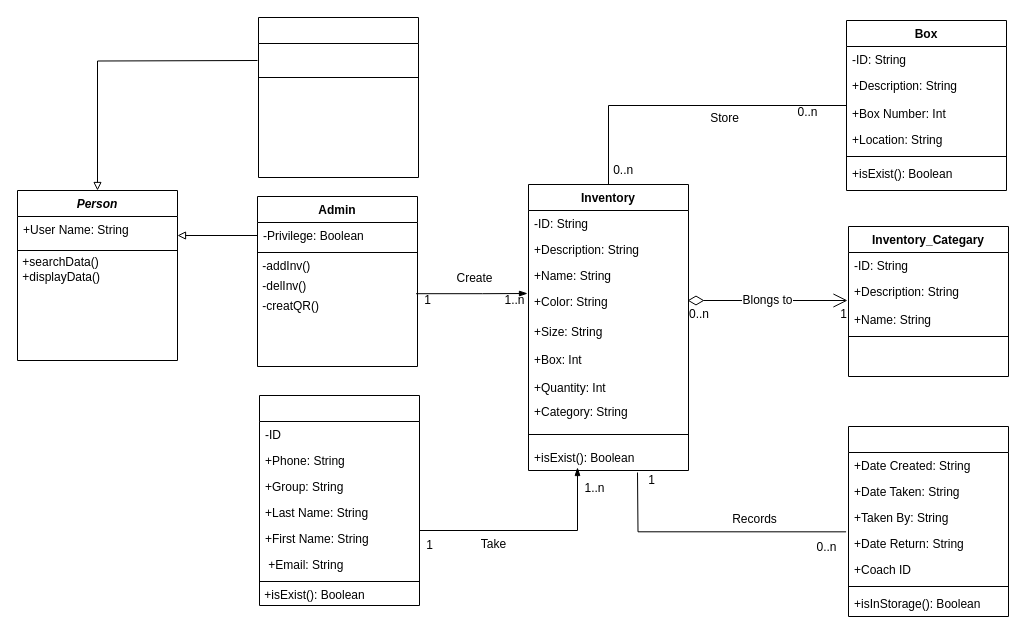
Image size: 1026x637. Some labels were removed from this diagram. The box of each missing label's shape, as (x1, y1, x2, y2) in pixels:
Coach: (258, 394, 420, 606)
Control_Records: (848, 426, 1008, 616)
User: (258, 16, 418, 178)
